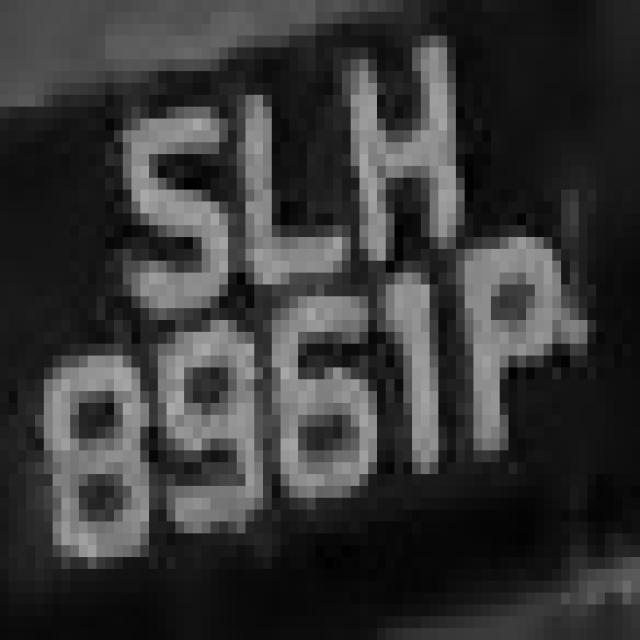1: (359, 225, 456, 522)
6: (263, 272, 395, 510)
8: (17, 320, 158, 593)
9: (158, 332, 280, 545)
H: (316, 24, 482, 272)
L: (210, 48, 351, 296)
P: (447, 213, 588, 498)
S: (96, 83, 237, 344)
